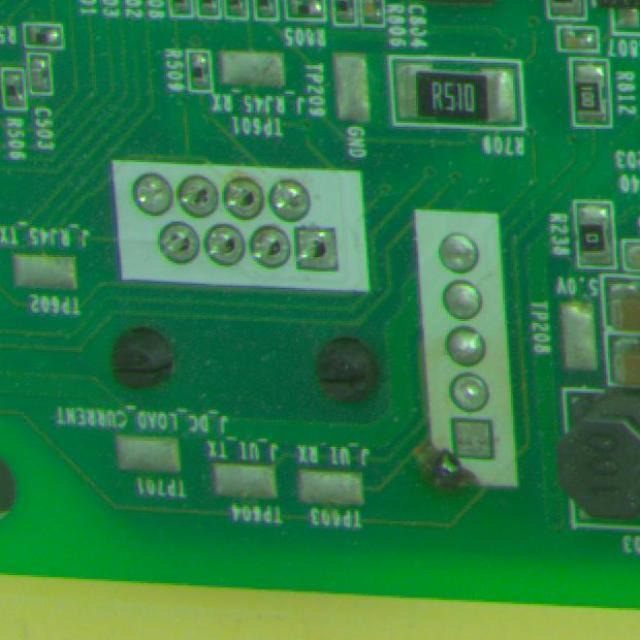Insufficient solder: (292, 226, 354, 276), (246, 224, 296, 278), (220, 175, 270, 220), (134, 167, 174, 221), (174, 172, 222, 217), (206, 223, 247, 275), (276, 182, 321, 224), (158, 223, 200, 268)
